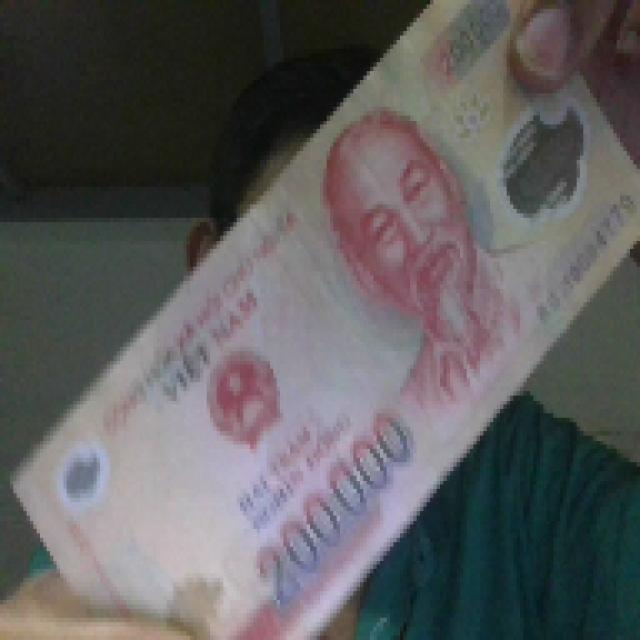200 000 VND: (9, 0, 639, 636)
